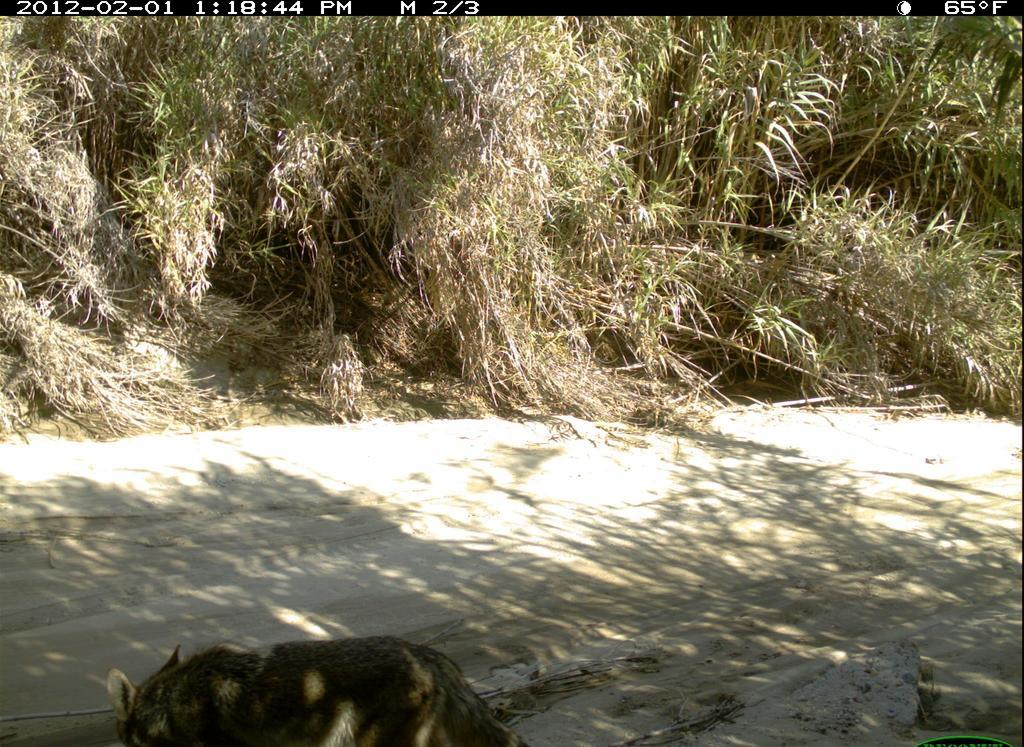coyote: (104, 610, 557, 747)
